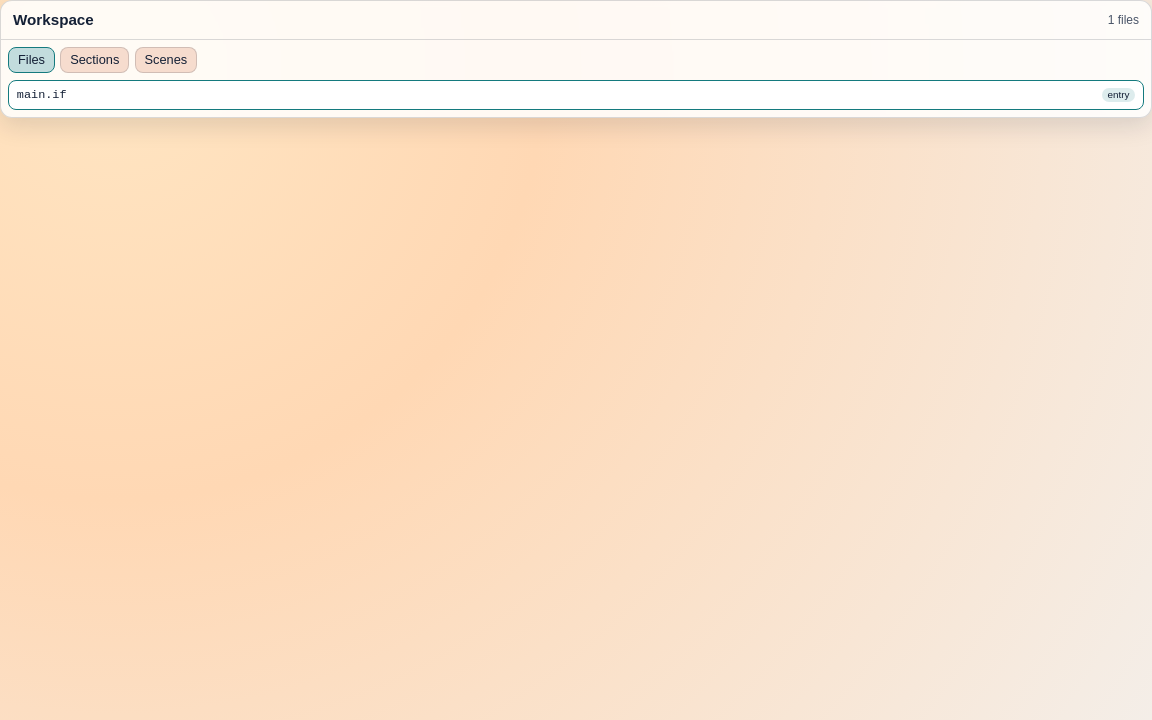
Test: Sidebar › scenes mode shows sections count badge
Click the button "Scenes" at {"x": 166, "y": 60}, box [135,47,197,73]
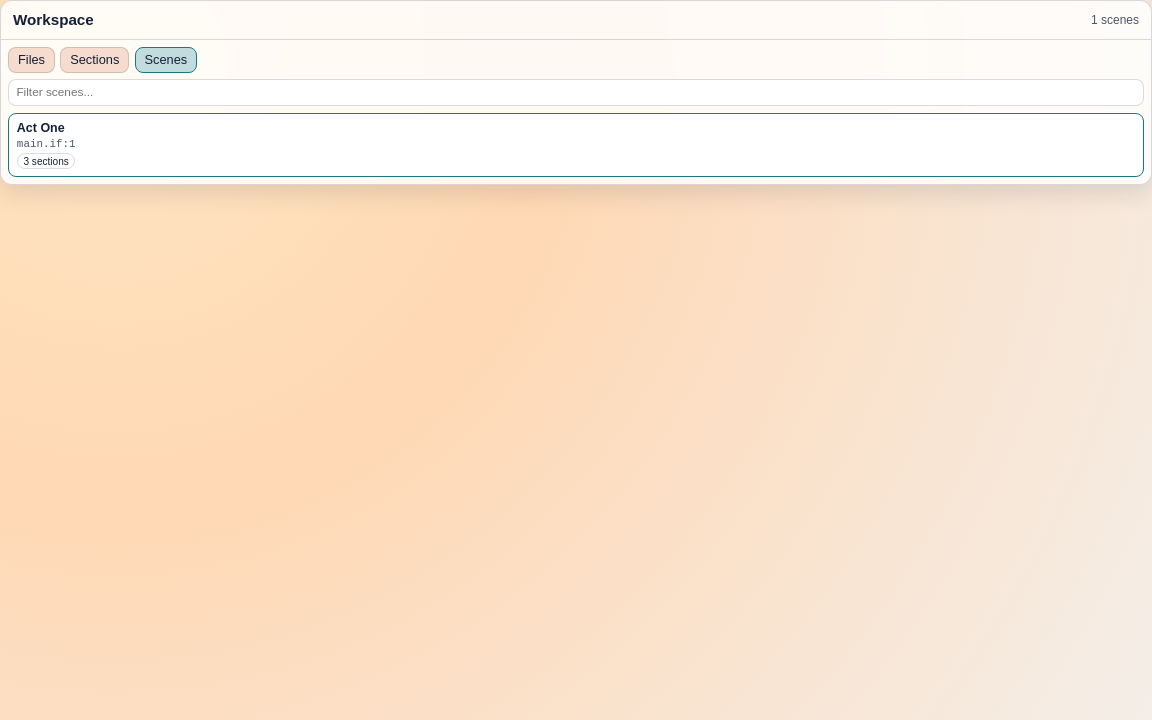
expect the text "3 sections" is shown: met, box [17,153,76,169]
